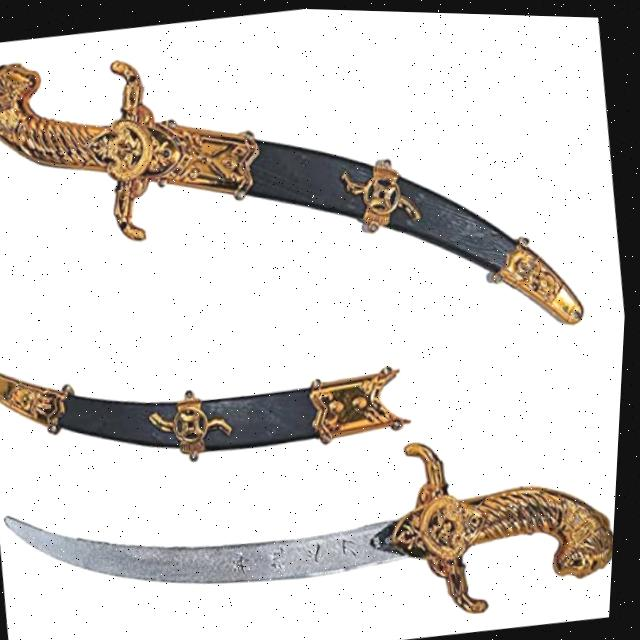knife: (0, 0, 606, 410), (0, 383, 624, 640), (0, 284, 426, 536)
